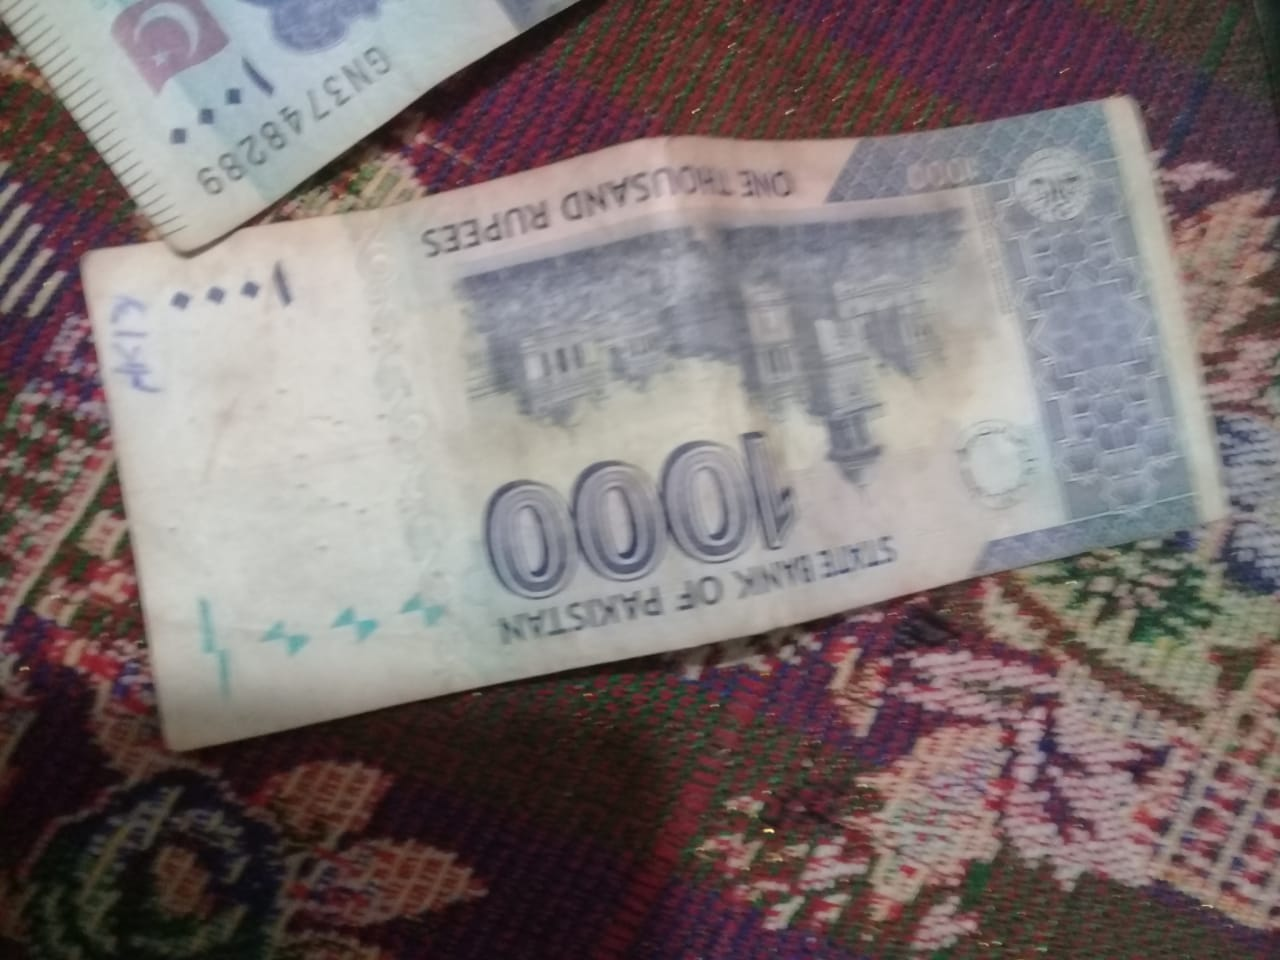1000 rupee: (89, 118, 1238, 772)
